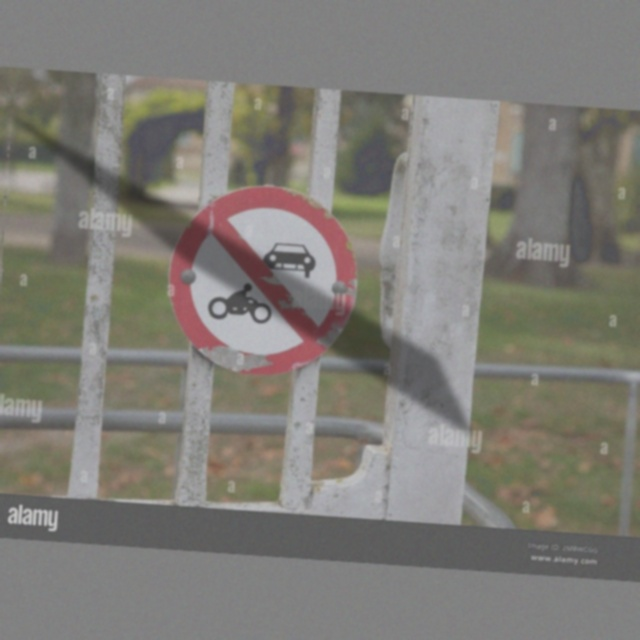All_Motor_Vehicles_Prohibited: (160, 182, 359, 384)
